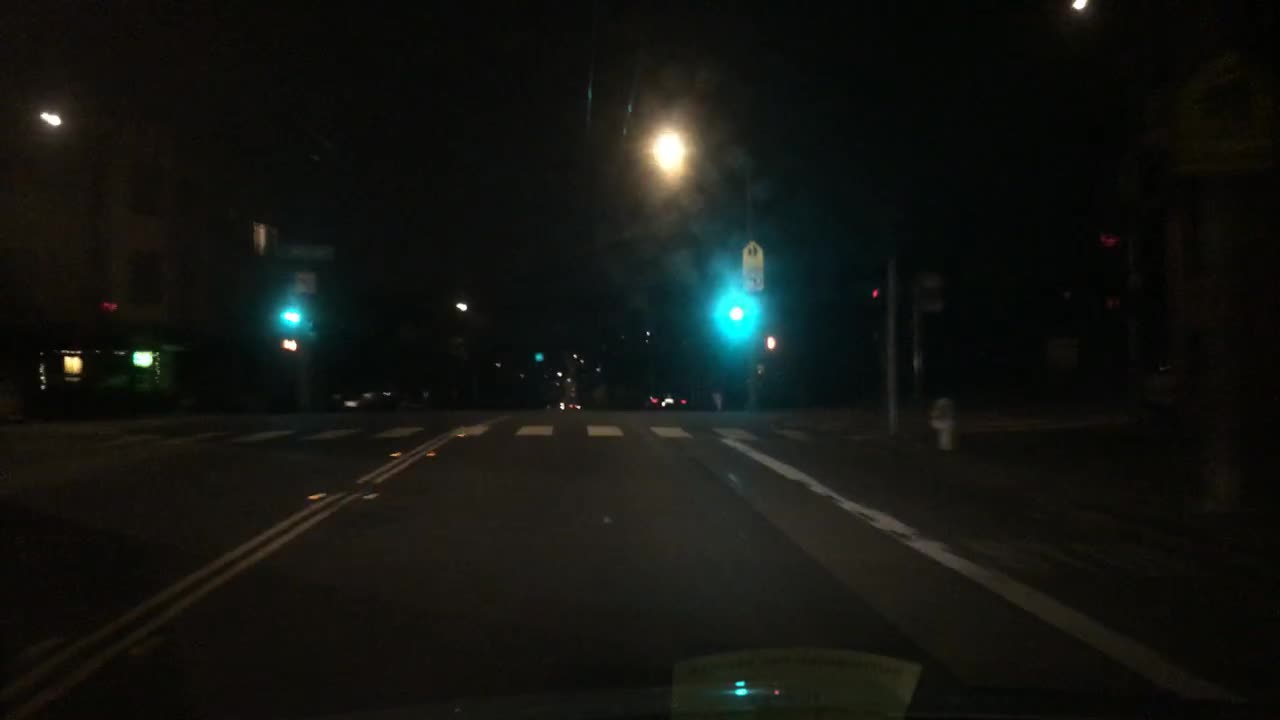car: (331, 371, 400, 411), (646, 389, 688, 411)
traffic light: (285, 288, 300, 326), (728, 296, 742, 324), (761, 331, 779, 350), (283, 338, 296, 351)
traffic sign: (742, 240, 765, 293), (279, 244, 336, 262), (295, 272, 313, 294)
